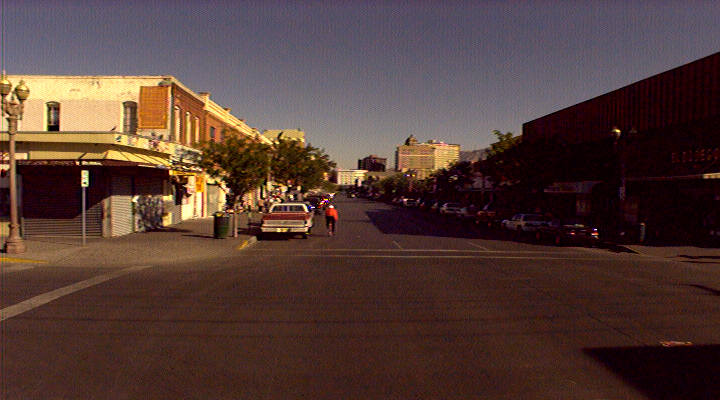Ramp: (23, 233, 252, 268), (621, 235, 714, 263)
